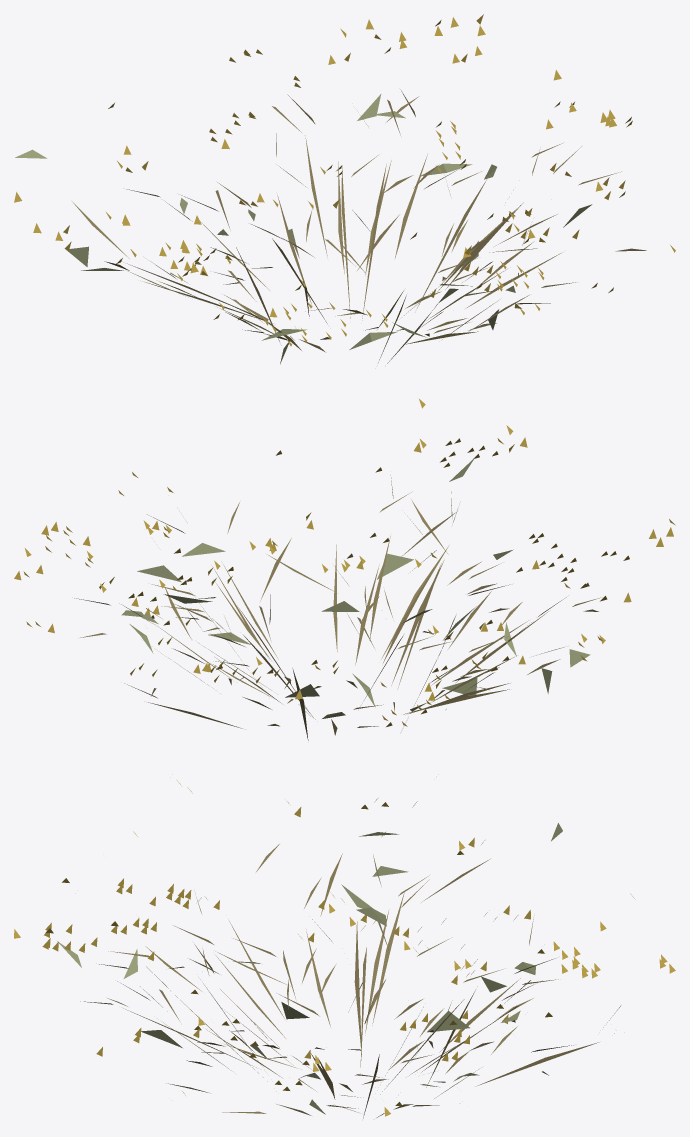
Rendered from Fond_Immortelle_1.fbx.
The picture shows the model from 3 angles, top to bottom: view 1: azimuth 30°, elevation 25°; view 2: azimuth 150°, elevation 25°; view 3: azimuth 270°, elevation 25°; orthographic projection. The views are drawn at different scales.
Parts seen in each view (by area): view 1: Fond_Immortelle_1; view 2: Fond_Immortelle_1; view 3: Fond_Immortelle_1.
Boxes of the visible parts, box(x1,y1,x2,y2) form: Fond_Immortelle_1: box(14, 14, 675, 364); Fond_Immortelle_1: box(14, 399, 675, 740); Fond_Immortelle_1: box(14, 780, 675, 1118).
Bounding box in the file's own units: 87.04 × 34.15 × 85.65.
